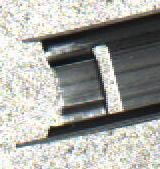press: (16, 16, 147, 150)
